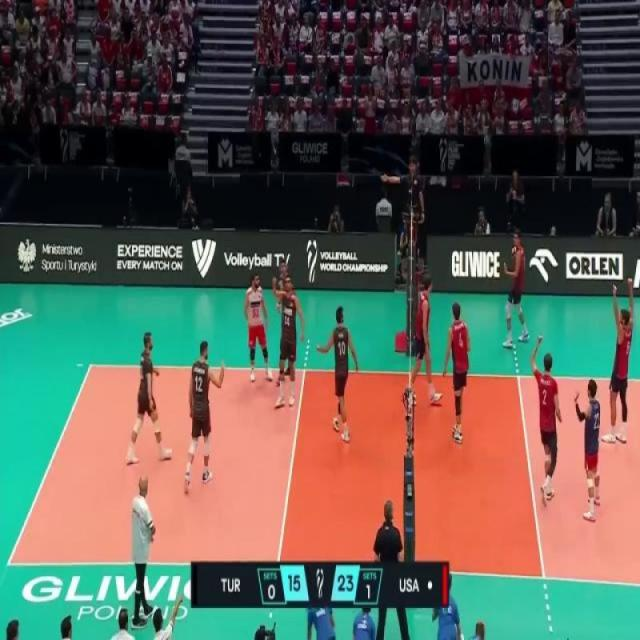volleyball: (510, 244, 518, 260)
